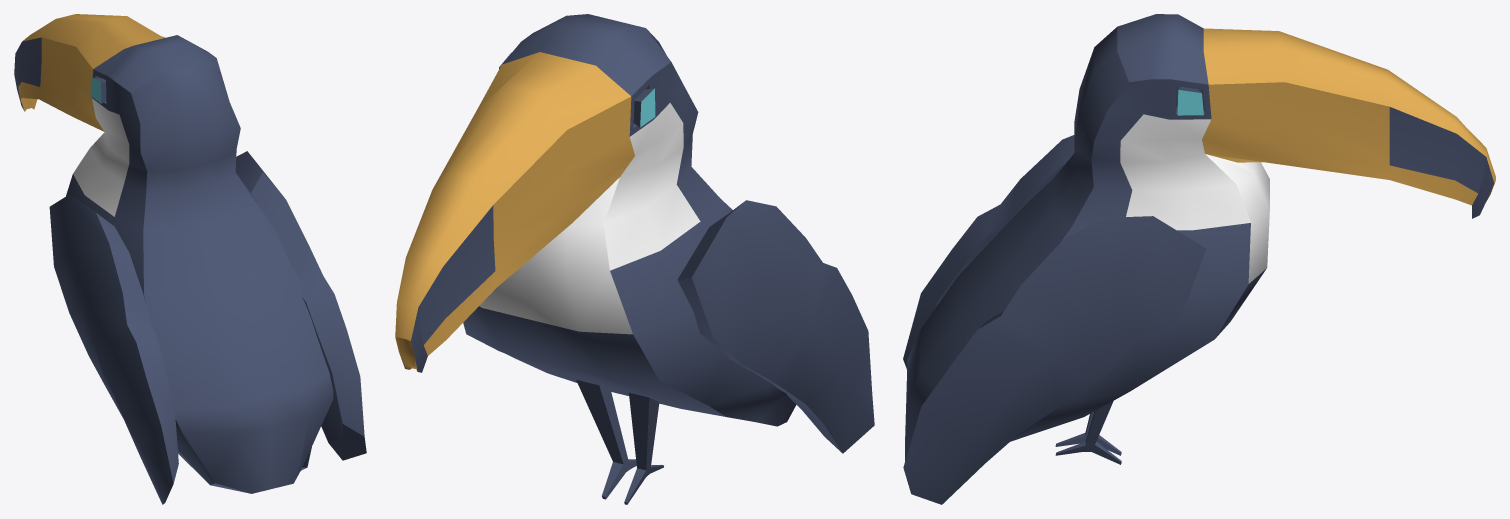
File: Toucan_Bird.fbx
3 views of the same model, side by side, from view 1: azimuth 30°, elevation 25°; view 2: azimuth 150°, elevation 25°; view 3: azimuth 270°, elevation 25° (orthographic). The views are drawn at different scales.
Parts seen in each view (by area): view 1: Body, L_wing, R_wing; view 2: Body, L_wing; view 3: Body, R_wing, L_wing.
Boxes of the visible parts, x1,y1,x2,y2 form: Body: [14, 14, 333, 493]; L_wing: [49, 195, 178, 504]; R_wing: [235, 151, 366, 460]; Body: [395, 14, 796, 504]; L_wing: [677, 200, 874, 453]; Body: [905, 14, 1495, 464]; R_wing: [903, 216, 1206, 504]; L_wing: [903, 135, 1074, 369].
Bounding box in the file's own units: 3.56 × 5.61 × 6.96.
